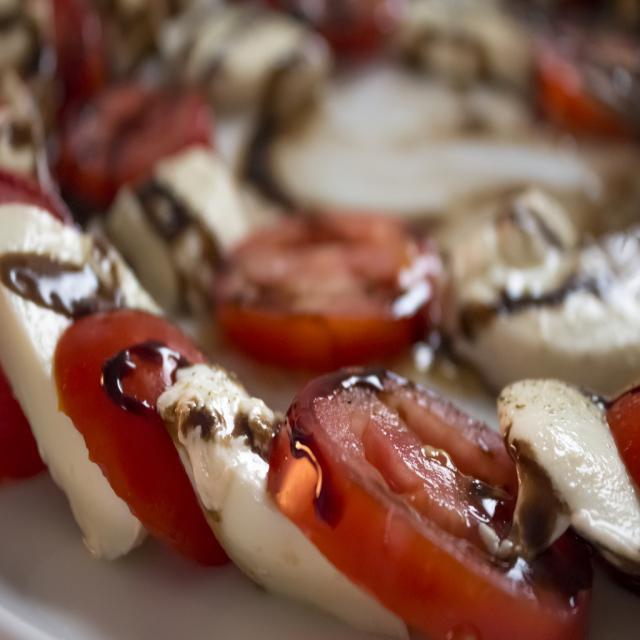Cheese: (155, 360, 411, 640), (0, 202, 156, 566), (451, 220, 640, 410), (492, 376, 640, 581)
